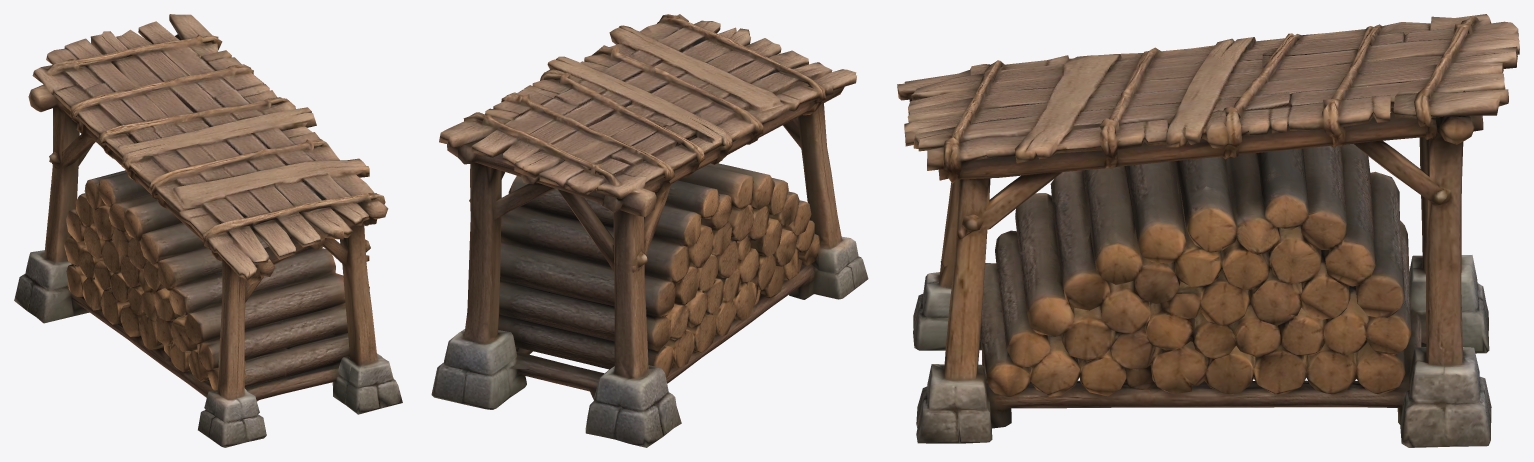
Rendered from odunluk-sv1.glb.
3 views of the same model, side by side, from view 1: azimuth 30°, elevation 25°; view 2: azimuth 150°, elevation 25°; view 3: azimuth 270°, elevation 25° (orthographic). The views are drawn at different scales.
Visible parts, largest first — view 1: tripo_node_e52a0c47-b86f-400c-8670-5c86aea515a3; view 2: tripo_node_e52a0c47-b86f-400c-8670-5c86aea515a3; view 3: tripo_node_e52a0c47-b86f-400c-8670-5c86aea515a3.
Part boxes in pixels (left/top/right/bottom): tripo_node_e52a0c47-b86f-400c-8670-5c86aea515a3: left=14, top=14, right=402, bottom=447; tripo_node_e52a0c47-b86f-400c-8670-5c86aea515a3: left=431, top=14, right=868, bottom=447; tripo_node_e52a0c47-b86f-400c-8670-5c86aea515a3: left=897, top=14, right=1519, bottom=447.
Bounding box in the file's own units: 0.5037 × 0.6011 × 1.
1 material, 1 textured.
